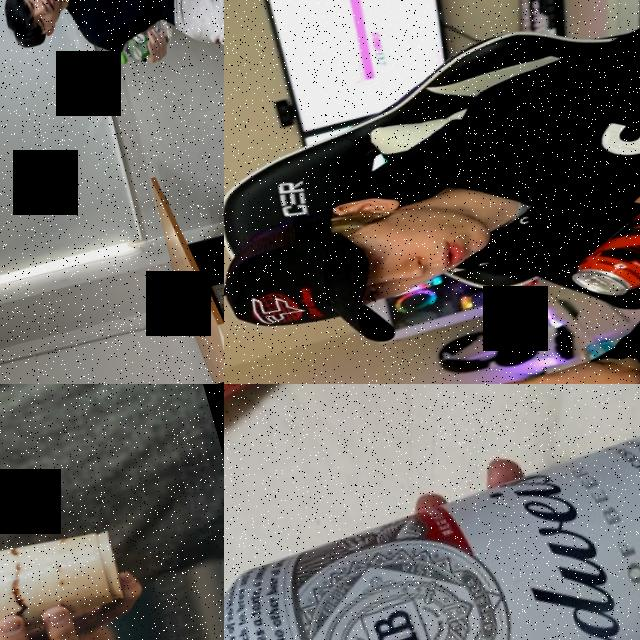bottle: (109, 14, 179, 68)
can: (224, 400, 640, 640), (551, 160, 640, 306)
cup: (0, 507, 129, 640)
